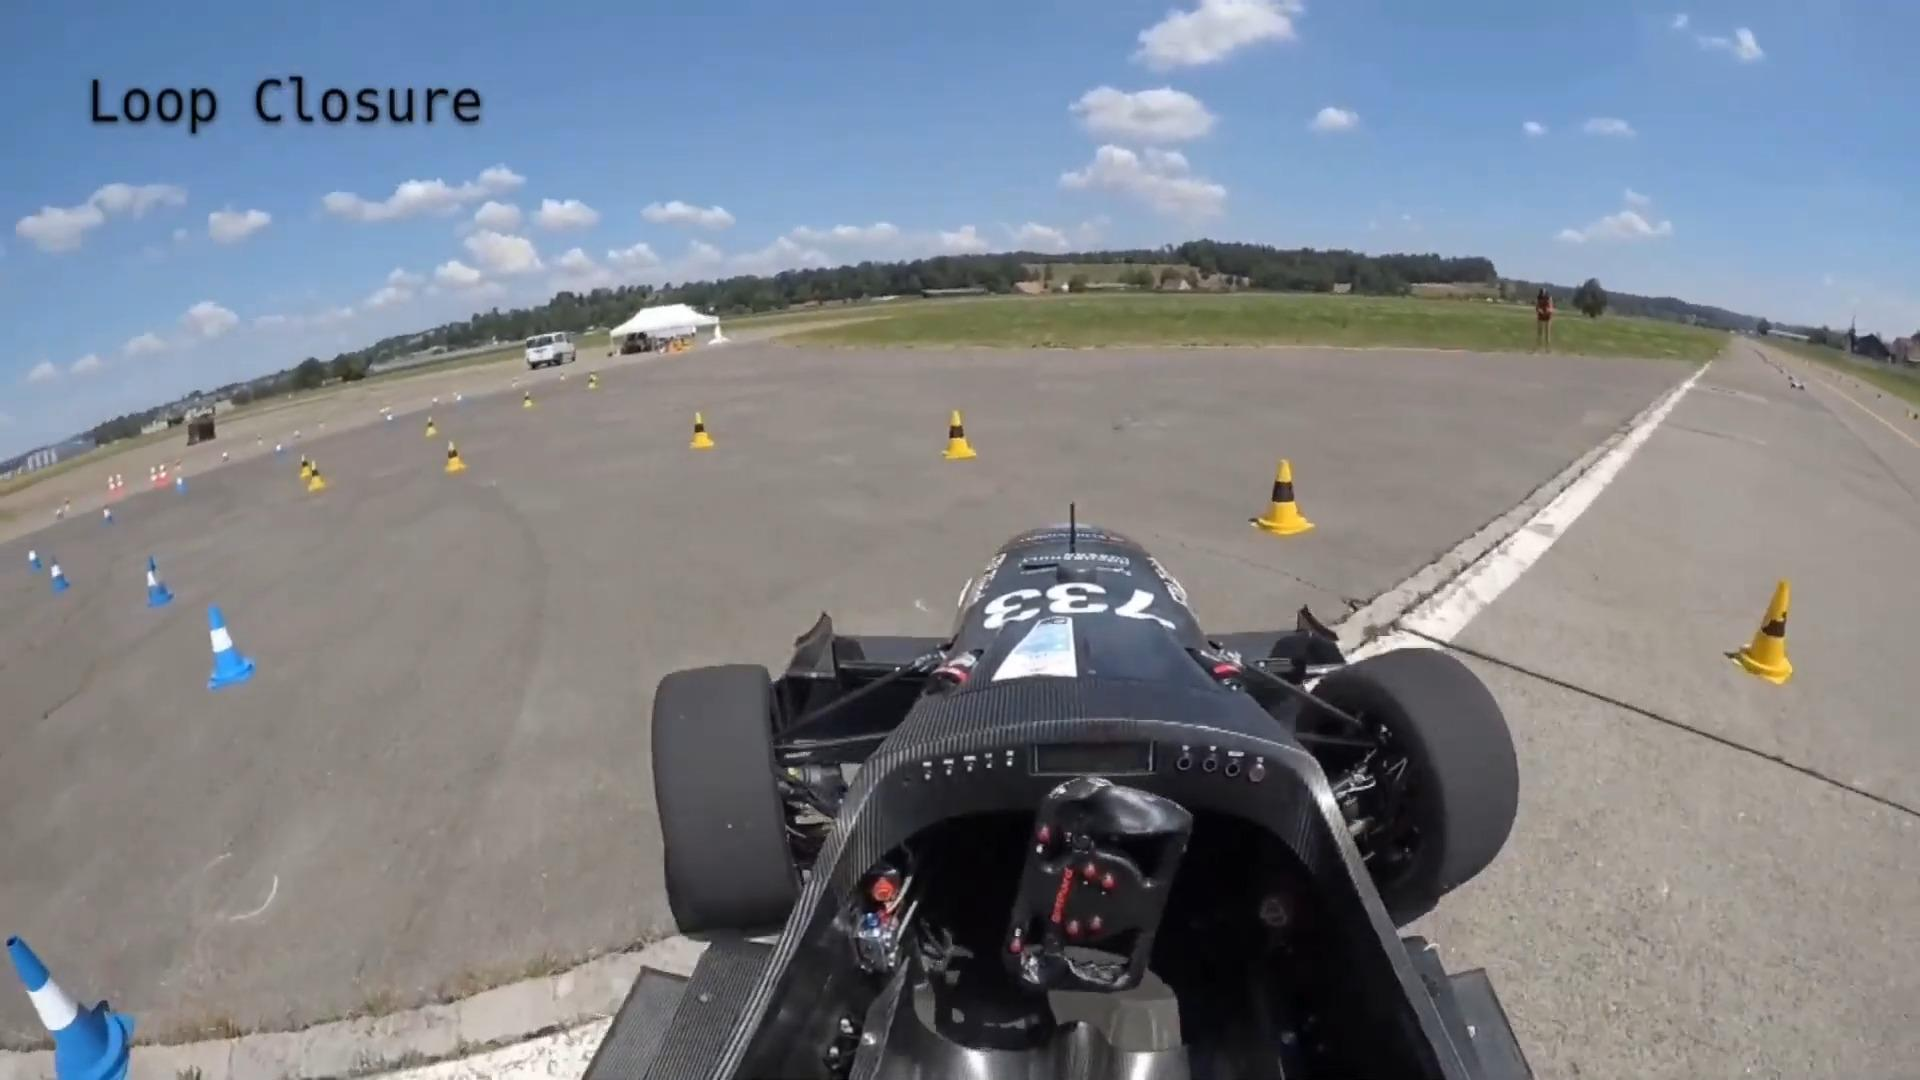blue_cone: (3, 901, 138, 1080), (203, 600, 262, 691), (142, 553, 171, 609), (47, 553, 67, 593), (26, 538, 42, 574), (100, 502, 115, 531), (174, 473, 186, 498)
large_orange_cone: (102, 471, 116, 498), (116, 469, 127, 500), (150, 464, 160, 493), (160, 460, 169, 489)
yellow_cone: (1725, 566, 1804, 691), (1241, 456, 1316, 538), (943, 410, 980, 464), (679, 411, 715, 448), (436, 439, 467, 476), (305, 462, 327, 495), (297, 448, 314, 481), (425, 414, 440, 442), (520, 389, 537, 414)
